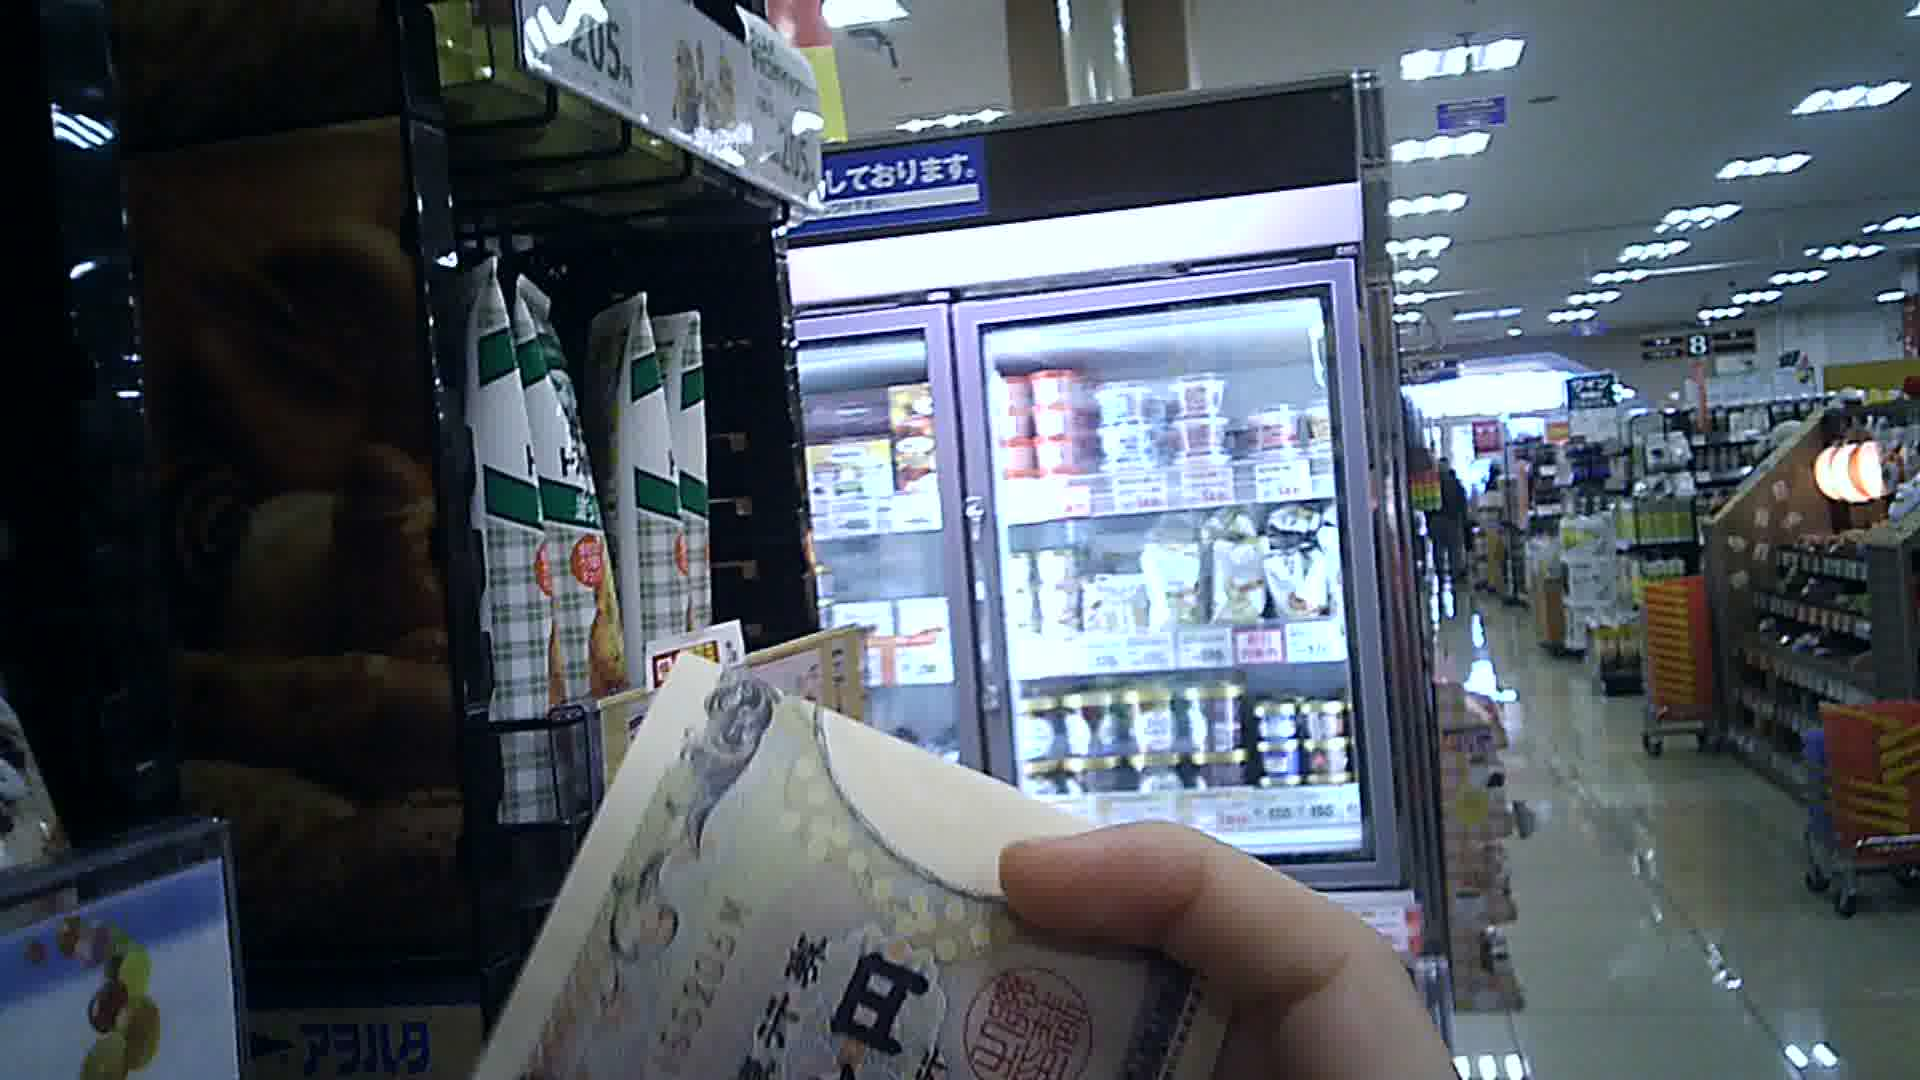5,000 Yen: (450, 640, 1246, 1079)
